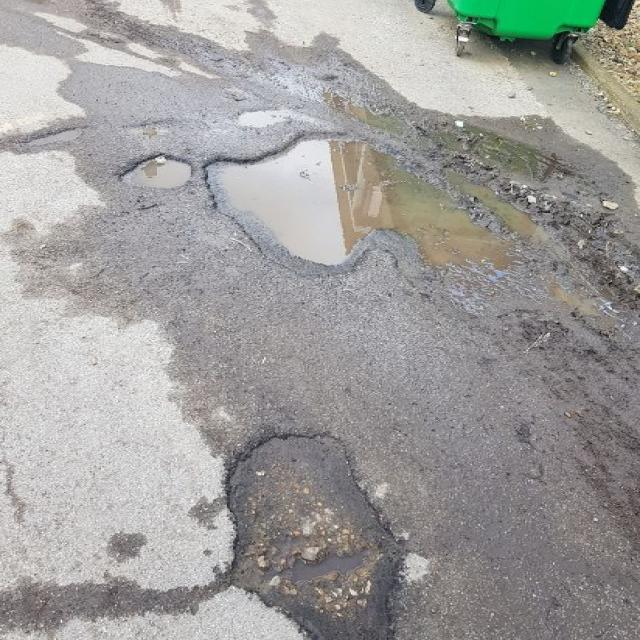Pothole: (197, 123, 541, 280), (205, 430, 416, 640), (114, 155, 192, 194)
